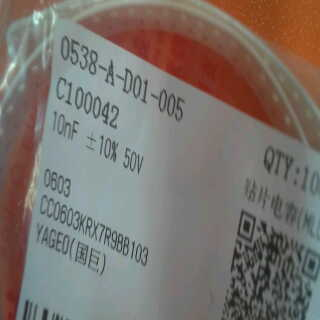10nF: (50, 108, 81, 147)
